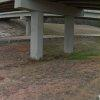Bridge: (7, 2, 84, 43)
